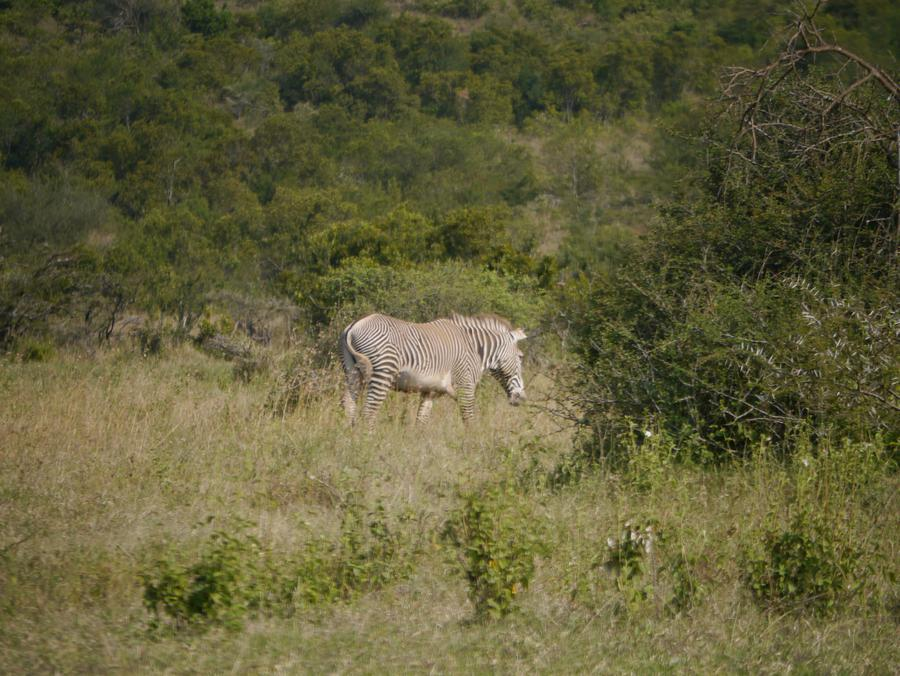zebra_grevys: (339, 308, 474, 395)
